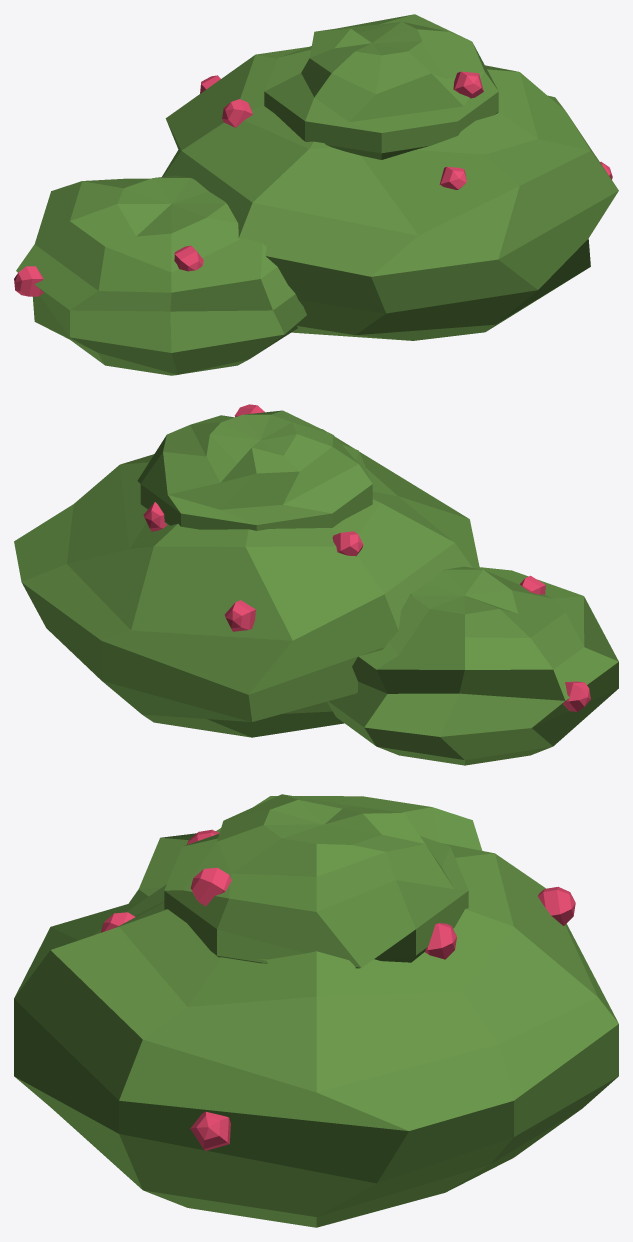
File: Green_Bush.fbx
3 renders of one model, top to bottom at view 1: azimuth 30°, elevation 25°; view 2: azimuth 150°, elevation 25°; view 3: azimuth 270°, elevation 25°, orthographic. The views are drawn at different scales.
Visible parts, largest first — view 1: pSphere8, pSphere9, pSphere10, pSphere18, pSphere15, pSphere13, pSphere17, pSphere14; view 2: pSphere8, pSphere9, pSphere10, pSphere11, pSphere18, pSphere13; view 3: pSphere8, pSphere10, pSphere9, pSphere16, pSphere15, pSphere11, pSphere12.
Boxes of the visible parts, bbox=[...] form: pSphere8: bbox=[162, 47, 618, 340]; pSphere9: bbox=[16, 175, 306, 375]; pSphere10: bbox=[264, 14, 498, 159]; pSphere18: bbox=[14, 266, 43, 296]; pSphere15: bbox=[453, 71, 483, 98]; pSphere13: bbox=[222, 99, 252, 127]; pSphere17: bbox=[174, 245, 203, 271]; pSphere14: bbox=[439, 166, 466, 189]; pSphere8: bbox=[14, 429, 479, 737]; pSphere9: bbox=[327, 566, 618, 765]; pSphere10: bbox=[137, 410, 372, 530]; pSphere11: bbox=[224, 600, 255, 631]; pSphere18: bbox=[563, 681, 590, 711]; pSphere13: bbox=[332, 531, 363, 556]; pSphere8: bbox=[14, 843, 618, 1227]; pSphere10: bbox=[164, 794, 468, 968]; pSphere9: bbox=[128, 796, 482, 903]; pSphere16: bbox=[190, 1111, 230, 1150]; pSphere15: bbox=[191, 867, 231, 906]; pSphere11: bbox=[538, 886, 575, 925]; pSphere12: bbox=[425, 923, 456, 959].
Size of the model in its own units: 3.47 by 1.61 by 2.5.
